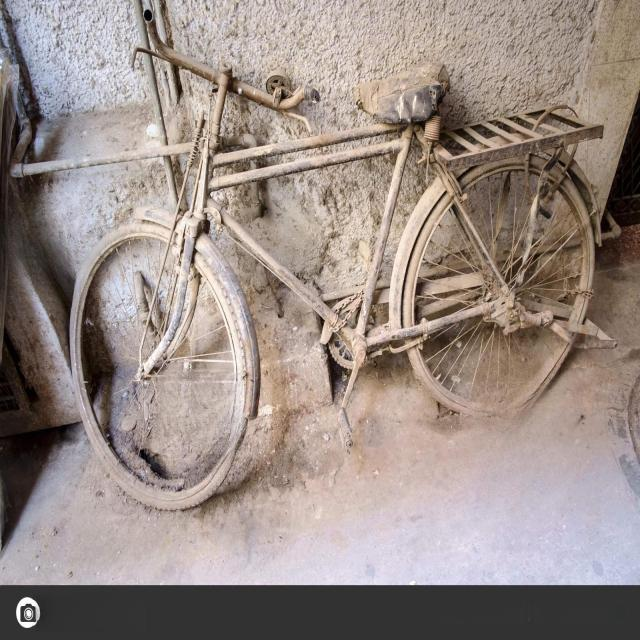bicycle: (70, 9, 612, 509)
